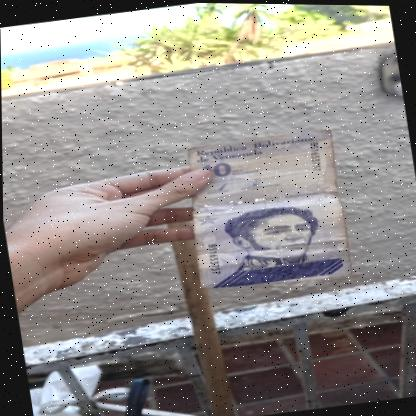ten-front-vef: (176, 125, 350, 295)
